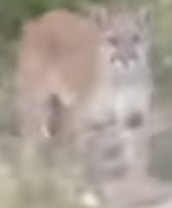Mountain Lion: (18, 3, 155, 132)
